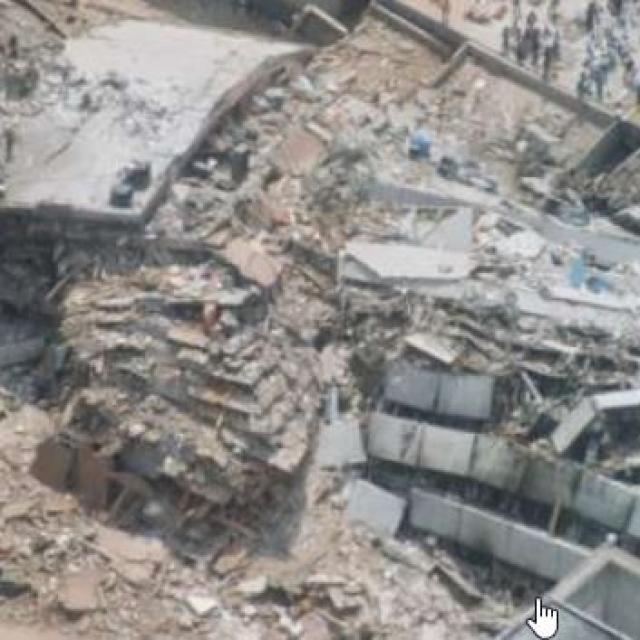collapsed_building: (15, 29, 638, 522)
